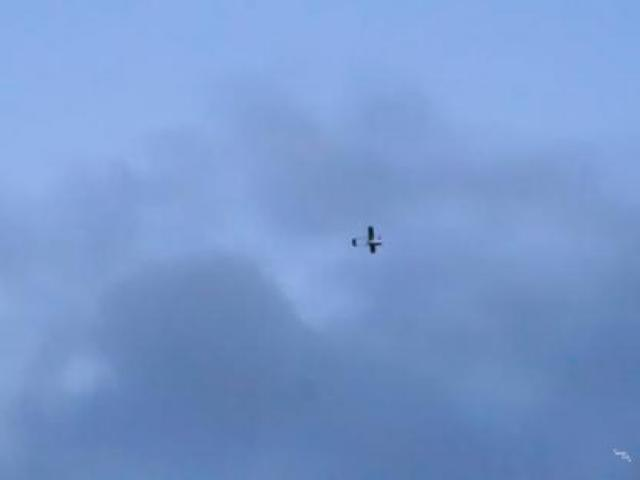uav: (351, 223, 383, 257)
